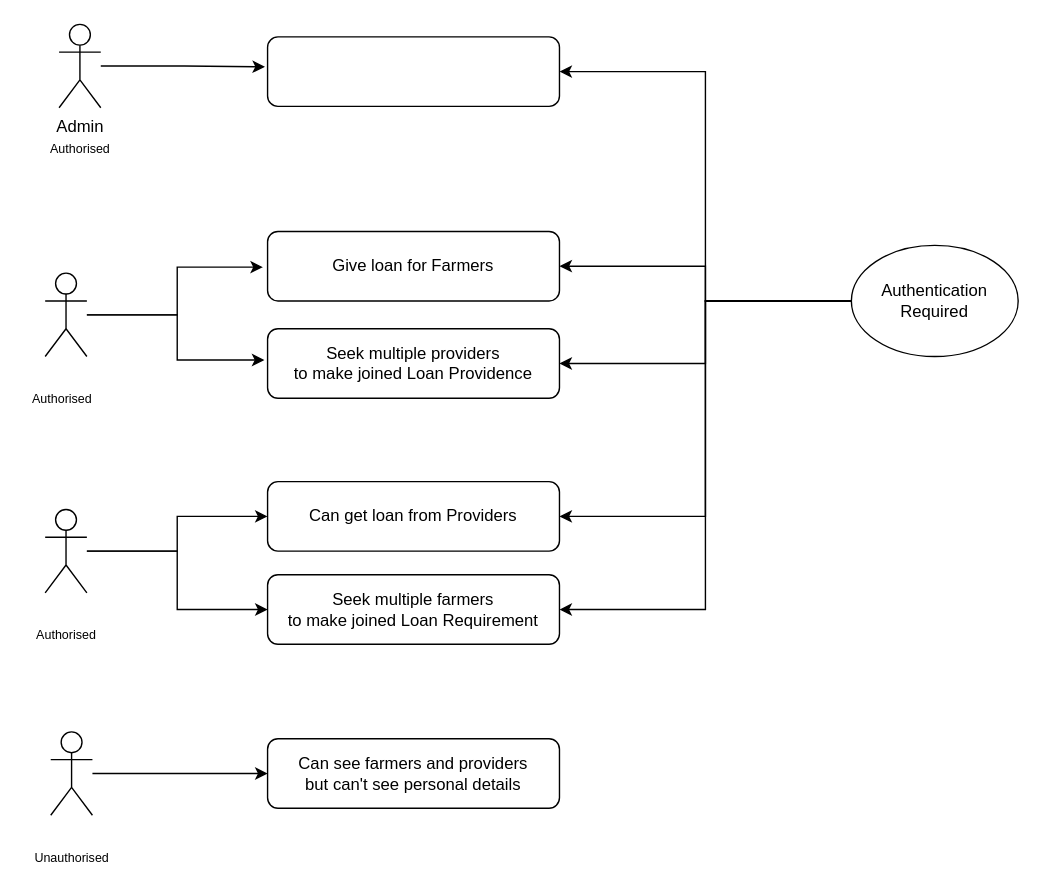
The diagram is 1043 pixels wide and 895 high, and some of its shapes have lost their labels. The centre of each missing label's shape, as x and y in pixels:
"Client" belongs at (65,550).
"Manage All Access" belongs at (412,70).
"Provider" belongs at (65,314).
"Unknown" belongs at (70,772).
